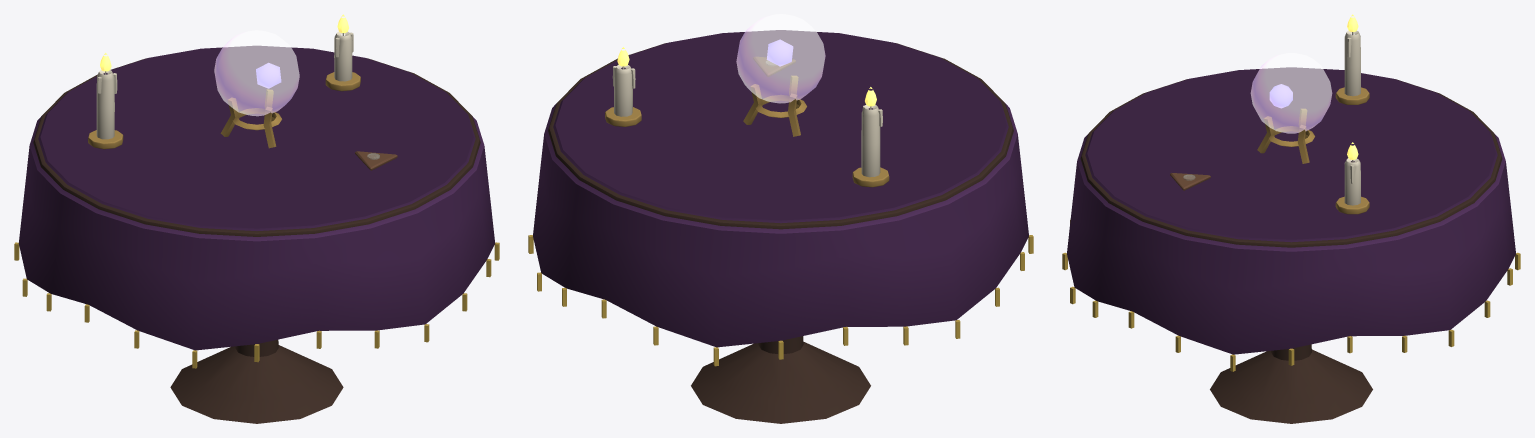
The model's file is table_seance.glb.
The picture shows the model from 3 angles, left to right: view 1: azimuth 30°, elevation 25°; view 2: azimuth 150°, elevation 25°; view 3: azimuth 270°, elevation 25°; orthographic projection. The views are drawn at different scales.
Parts seen in each view (by area): view 1: table_seance, glow; view 2: table_seance, glow; view 3: table_seance, glow.
Boxes of the visible parts, box(x1,y1,x2,y2) form: table_seance: box(14, 31, 499, 423); glow: box(214, 30, 299, 116); table_seance: box(528, 30, 1033, 423); glow: box(736, 14, 825, 103); table_seance: box(1062, 30, 1520, 423); glow: box(1250, 53, 1332, 133).
Bounding box in the file's own units: 1.35 × 1.08 × 1.35.
